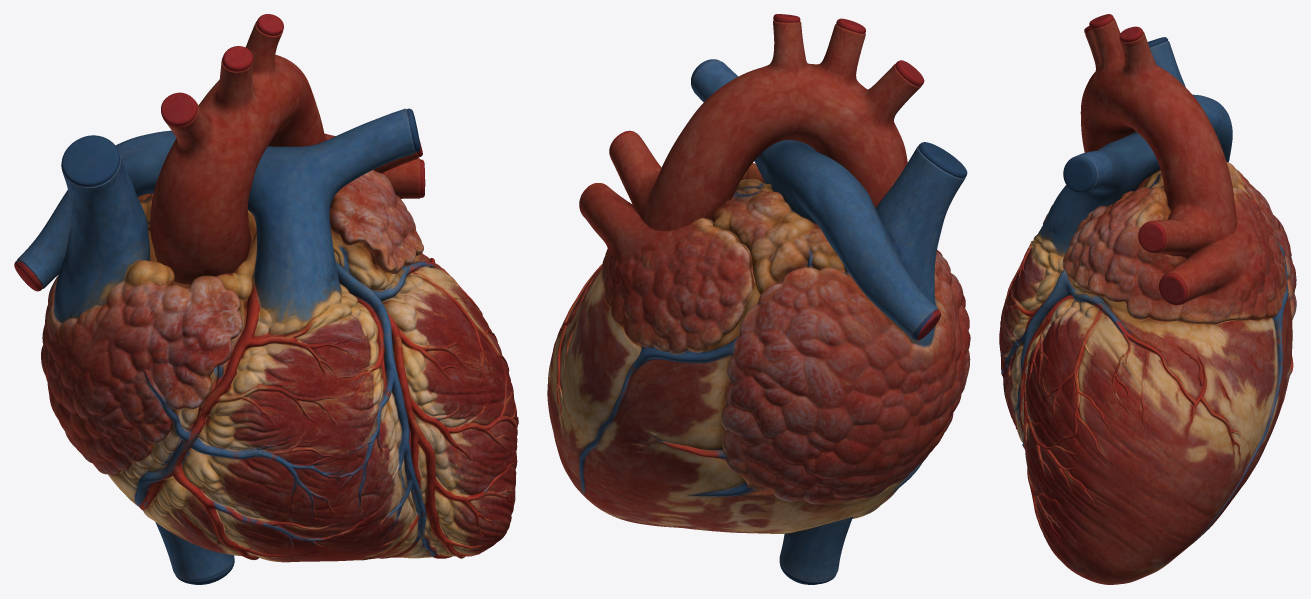
Rendered from heart.glb.
3 renders of one model, left to right at view 1: azimuth 30°, elevation 25°; view 2: azimuth 150°, elevation 25°; view 3: azimuth 270°, elevation 25°, orthographic. The views are drawn at different scales.
Visible parts, largest first — view 1: human-heart; view 2: human-heart; view 3: human-heart.
Part boxes in pixels (x1,y1,x2,y2): human-heart: (14, 14, 518, 584); human-heart: (547, 14, 970, 584); human-heart: (999, 14, 1296, 584).
Size of the model in its own units: 0.0983 by 0.1211 by 0.0687.
Materials: 1 (1 with a texture image).
